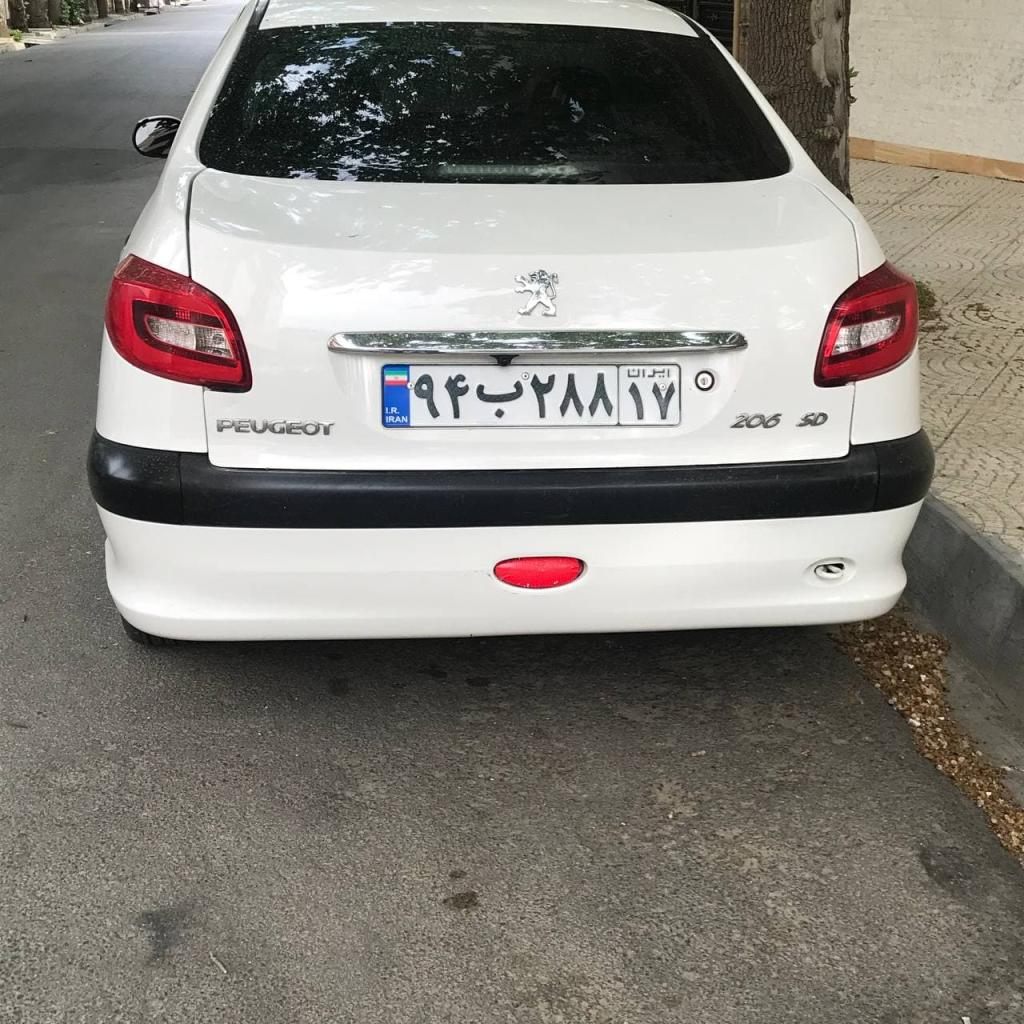Plates: (383, 365, 680, 428)
